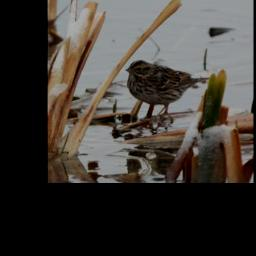Sparrow: (124, 59, 210, 126)
